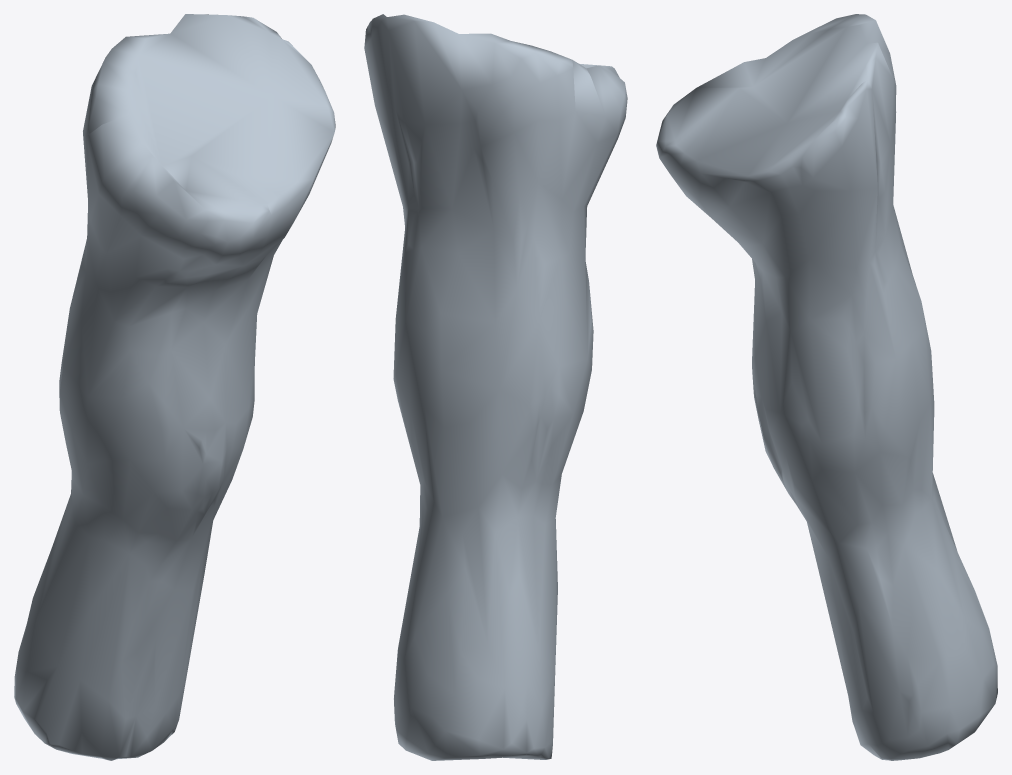
The model's file is lateral-thyrohyoid-ligament-l.glb.
The picture shows the model from 3 angles, left to right: view 1: azimuth 30°, elevation 25°; view 2: azimuth 150°, elevation 25°; view 3: azimuth 270°, elevation 25°; orthographic projection.
Parts seen in each view (by area): view 1: Lateral thyrohyoid ligament.l; view 2: Lateral thyrohyoid ligament.l; view 3: Lateral thyrohyoid ligament.l.
Part boxes in pixels (x1,y1,x2,y2): Lateral thyrohyoid ligament.l: (14, 14, 335, 760); Lateral thyrohyoid ligament.l: (364, 14, 627, 760); Lateral thyrohyoid ligament.l: (656, 14, 997, 760).
Bounding box in the file's own units: 0.00362 × 0.0106 × 0.00451.
